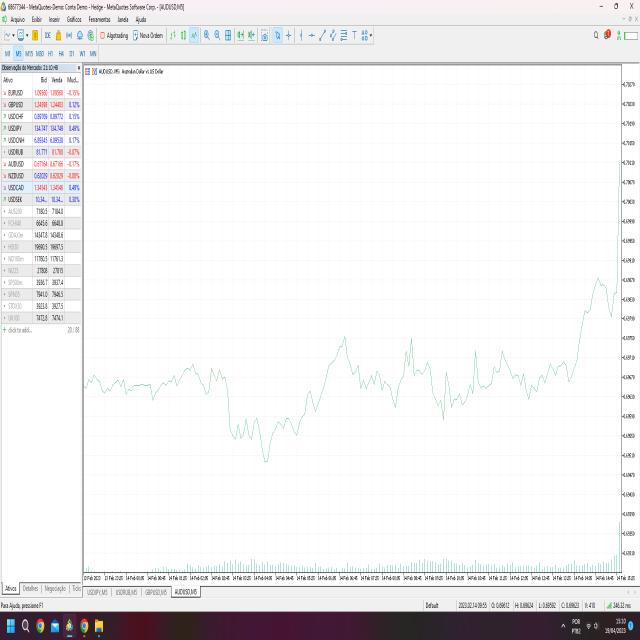bandeira_baixa: (221, 355, 259, 444)
topo_duplo: (401, 332, 419, 389)
